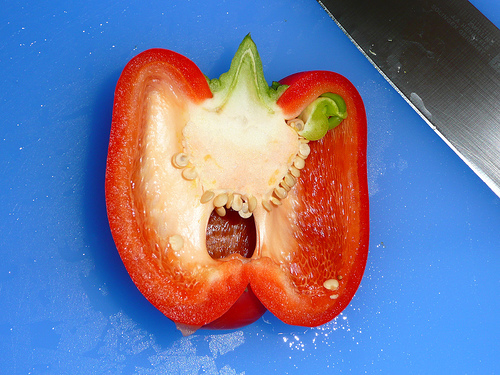capsicum: (104, 32, 371, 336)
